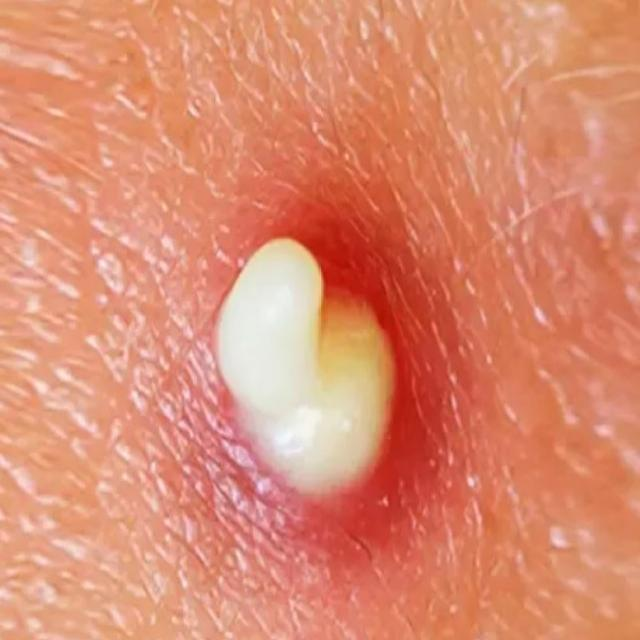pustule: (168, 192, 431, 526)
